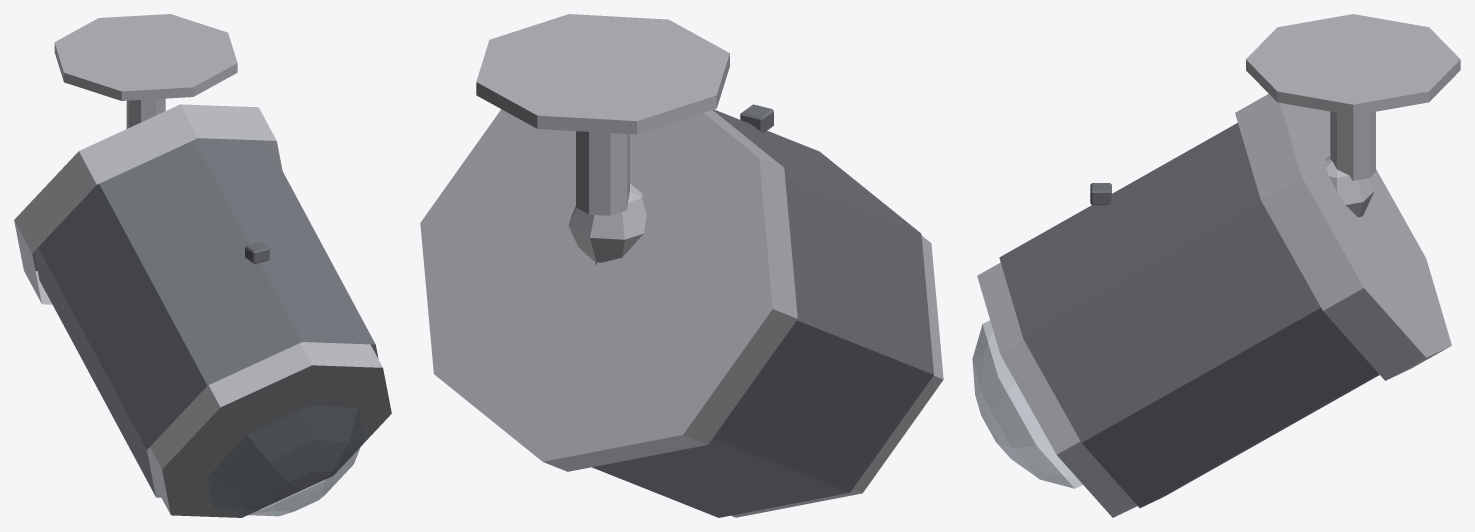
Rendered from prop_security_camera_01.glb.
3 views of the same model, side by side, from view 1: azimuth 30°, elevation 25°; view 2: azimuth 150°, elevation 25°; view 3: azimuth 270°, elevation 25° (orthographic). The views are drawn at different scales.
Visible parts, largest first — view 1: prop_security_camera_01; view 2: prop_security_camera_01; view 3: prop_security_camera_01.
Boxes of the visible parts, x1=… form: prop_security_camera_01: x1=14, y1=14, x2=391, y2=517; prop_security_camera_01: x1=420, y1=14, x2=943, y2=517; prop_security_camera_01: x1=972, y1=14, x2=1460, y2=517.
Bounding box in the file's own units: 0.124 × 0.184 × 0.1819.
